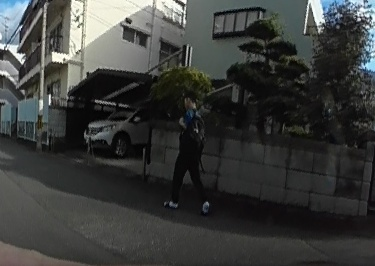person: (170, 91, 212, 218)
